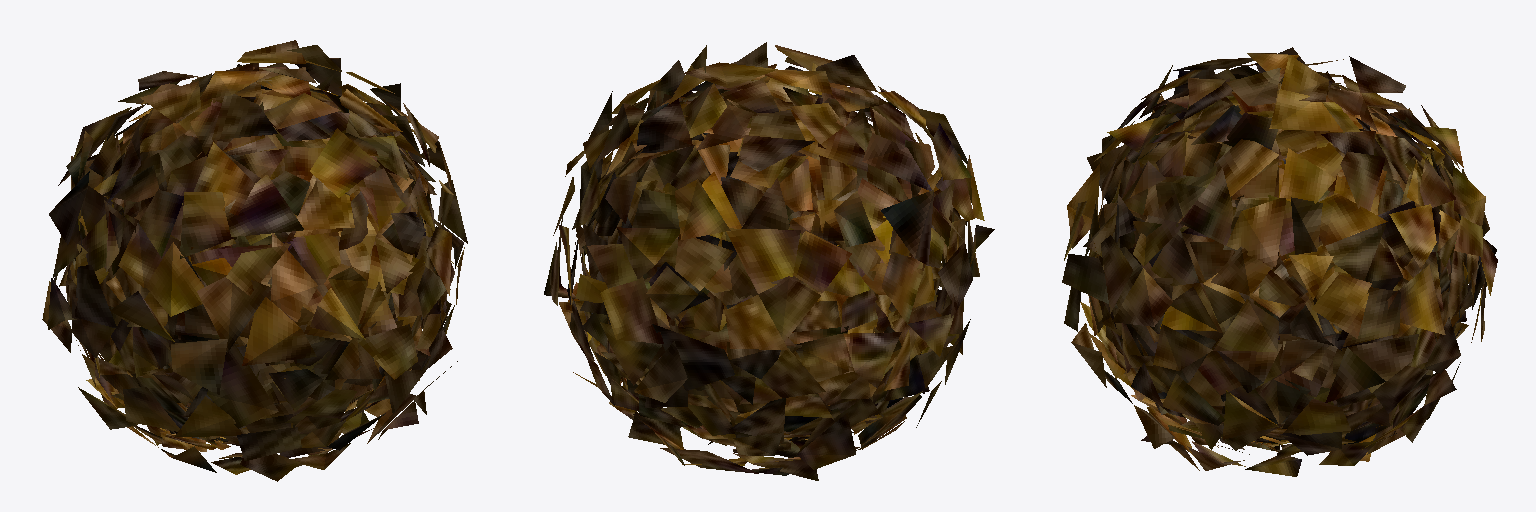
The picture shows the model from 3 angles: view 1: azimuth 30°, elevation 25°; view 2: azimuth 150°, elevation 25°; view 3: azimuth 270°, elevation 25°; orthographic projection.
Visible parts, largest first — view 1: Bottom_layer.003; view 2: Bottom_layer.003; view 3: Bottom_layer.003.
Boxes of the visible parts, x1,y1,x2,y2 form: Bottom_layer.003: [42, 40, 467, 481]; Bottom_layer.003: [544, 42, 994, 480]; Bottom_layer.003: [1062, 47, 1497, 476].
Bounding box in the file's own units: 3.29 × 3.26 × 3.27.
Materials: 1 (1 with a texture image).